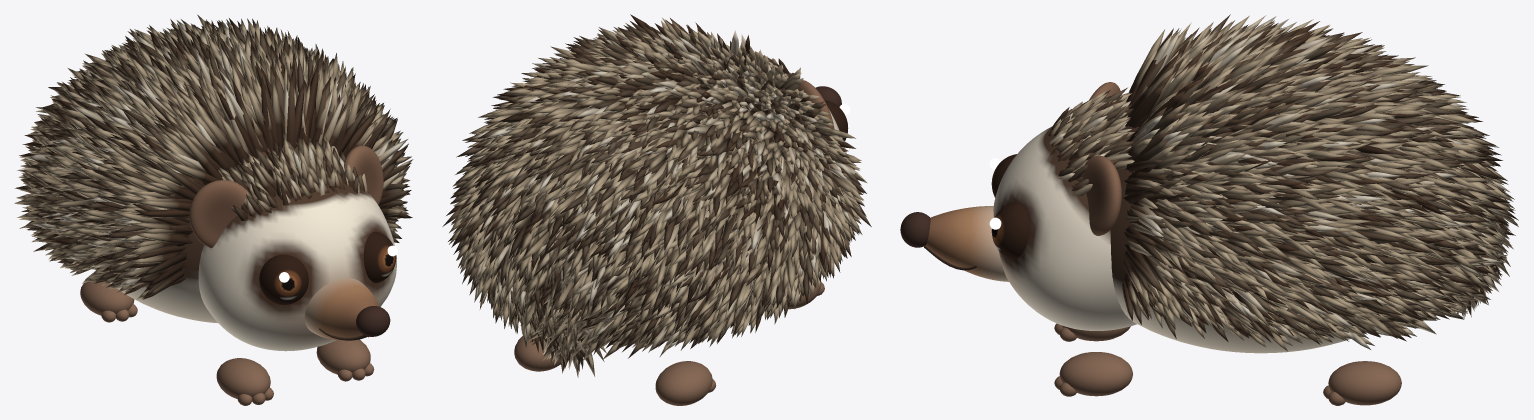
Rendered from khina.glb.
The picture shows the model from 3 angles, left to right: view 1: azimuth 30°, elevation 25°; view 2: azimuth 150°, elevation 25°; view 3: azimuth 270°, elevation 25°; orthographic projection. The views are drawn at different scales.
Parts seen in each view (by area): view 1: BodySpines, Head, HeadSpines, Snout, Body, Ear.R, Foot.FR, Eye.R, Foot.FL, Foot.BR, Ear.L, Eye.L (+1 smaller); view 2: BodySpines, Foot.BR, Foot.BL, Ear.R; view 3: BodySpines, Head, HeadSpines, Body, Snout, Foot.BL, Foot.FL, Ear.L, Eye.L, Nose, Foot.FR.
Boxes of the visible parts, <box> form: BodySpines: <box>14,14,413,299</box>; Head: <box>198,183,396,351</box>; HeadSpines: <box>218,135,367,220</box>; Snout: <box>304,278,379,340</box>; Body: <box>95,138,340,323</box>; Ear.R: <box>189,180,250,248</box>; Foot.FR: <box>216,358,273,405</box>; Eye.R: <box>259,254,308,304</box>; Foot.FL: <box>316,339,374,381</box>; Foot.BR: <box>80,281,137,322</box>; Ear.L: <box>344,145,383,204</box>; Eye.L: <box>363,231,396,282</box>; BodySpines: <box>442,14,871,377</box>; Foot.BR: <box>655,361,716,405</box>; Foot.BL: <box>514,335,560,371</box>; Ear.R: <box>797,80,834,129</box>; BodySpines: <box>1122,14,1518,351</box>; Head: <box>993,126,1136,330</box>; HeadSpines: <box>1048,87,1135,196</box>; Body: <box>1110,108,1366,353</box>; Snout: <box>925,206,1008,281</box>; Foot.BL: <box>1323,361,1401,405</box>; Foot.FL: <box>1054,352,1132,396</box>; Ear.L: <box>1080,155,1121,235</box>; Eye.L: <box>991,202,1029,259</box>; Nose: <box>900,212,930,247</box>; Foot.FR: <box>1054,323,1130,341</box>.
Bounding box in the file's own units: 1.02 × 0.8356 × 1.43.
